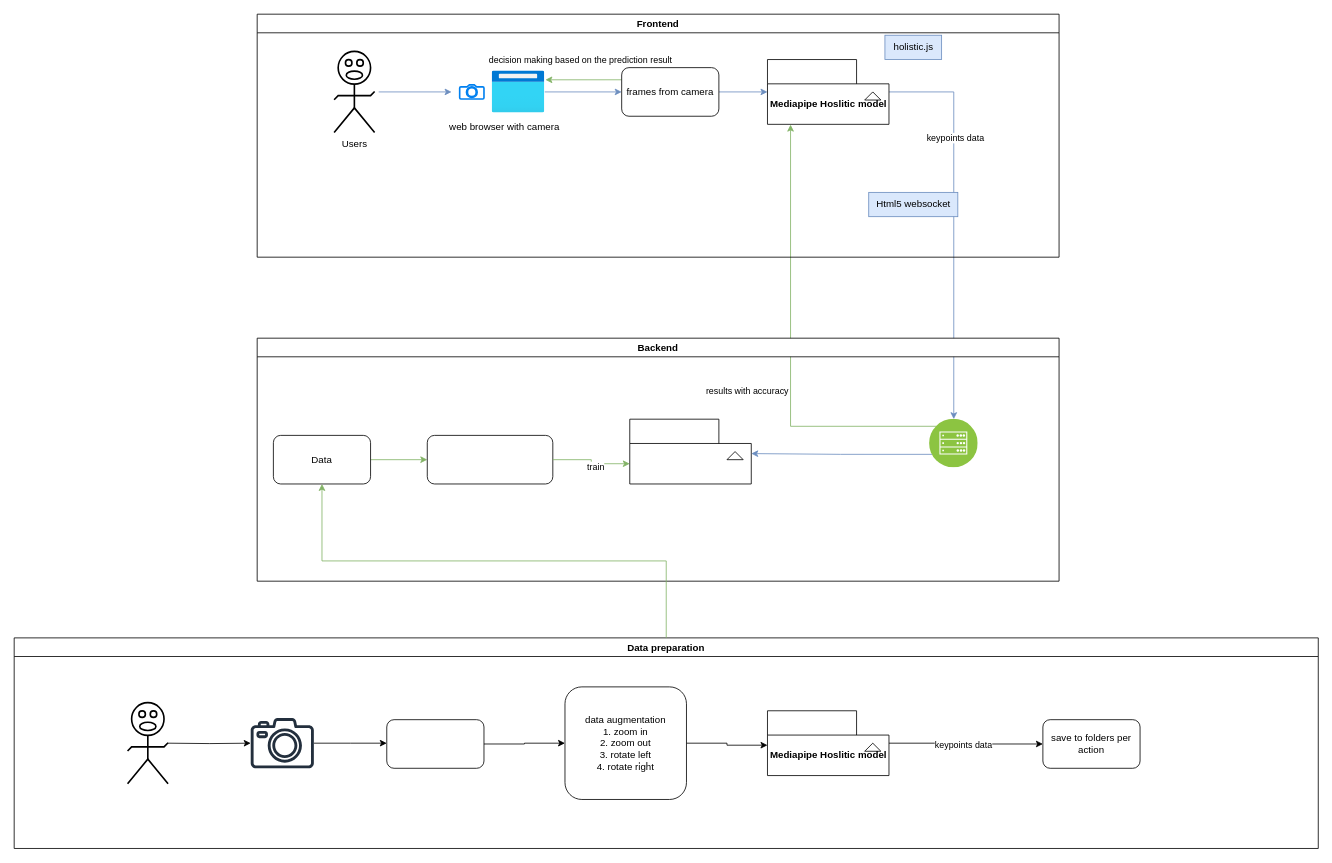
Some shapes in this 1332 by 863 pixel diagram are drawn without their labels. The centre of each missing label's shape, as x and y in pixels:
"Collect actions(60 samples and 30 frames per action )" goes at point (435, 743).
"opencv" goes at point (281, 743).
"Trained model" goes at point (690, 451).
"Transformer(attention)" goes at point (489, 459).
"Us" goes at point (147, 742).
"websocket server" goes at point (953, 443).
